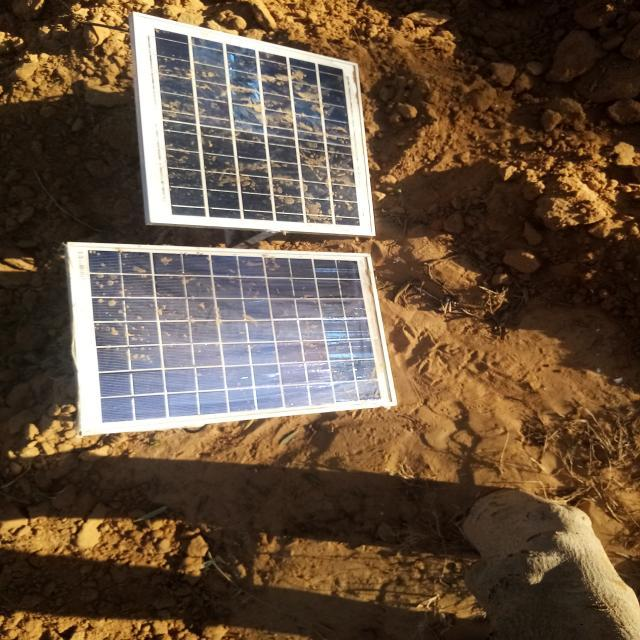faulty: (70, 245, 397, 433), (133, 14, 373, 235)
